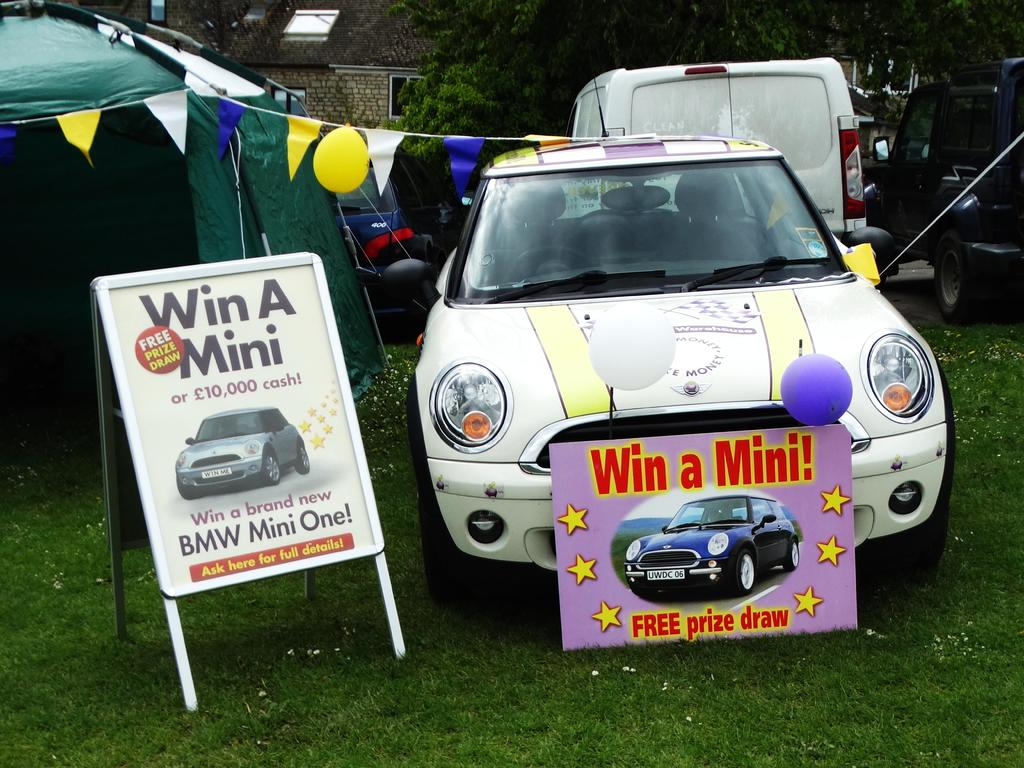Car: (402, 132, 956, 602), (622, 489, 799, 599), (172, 407, 311, 498)
